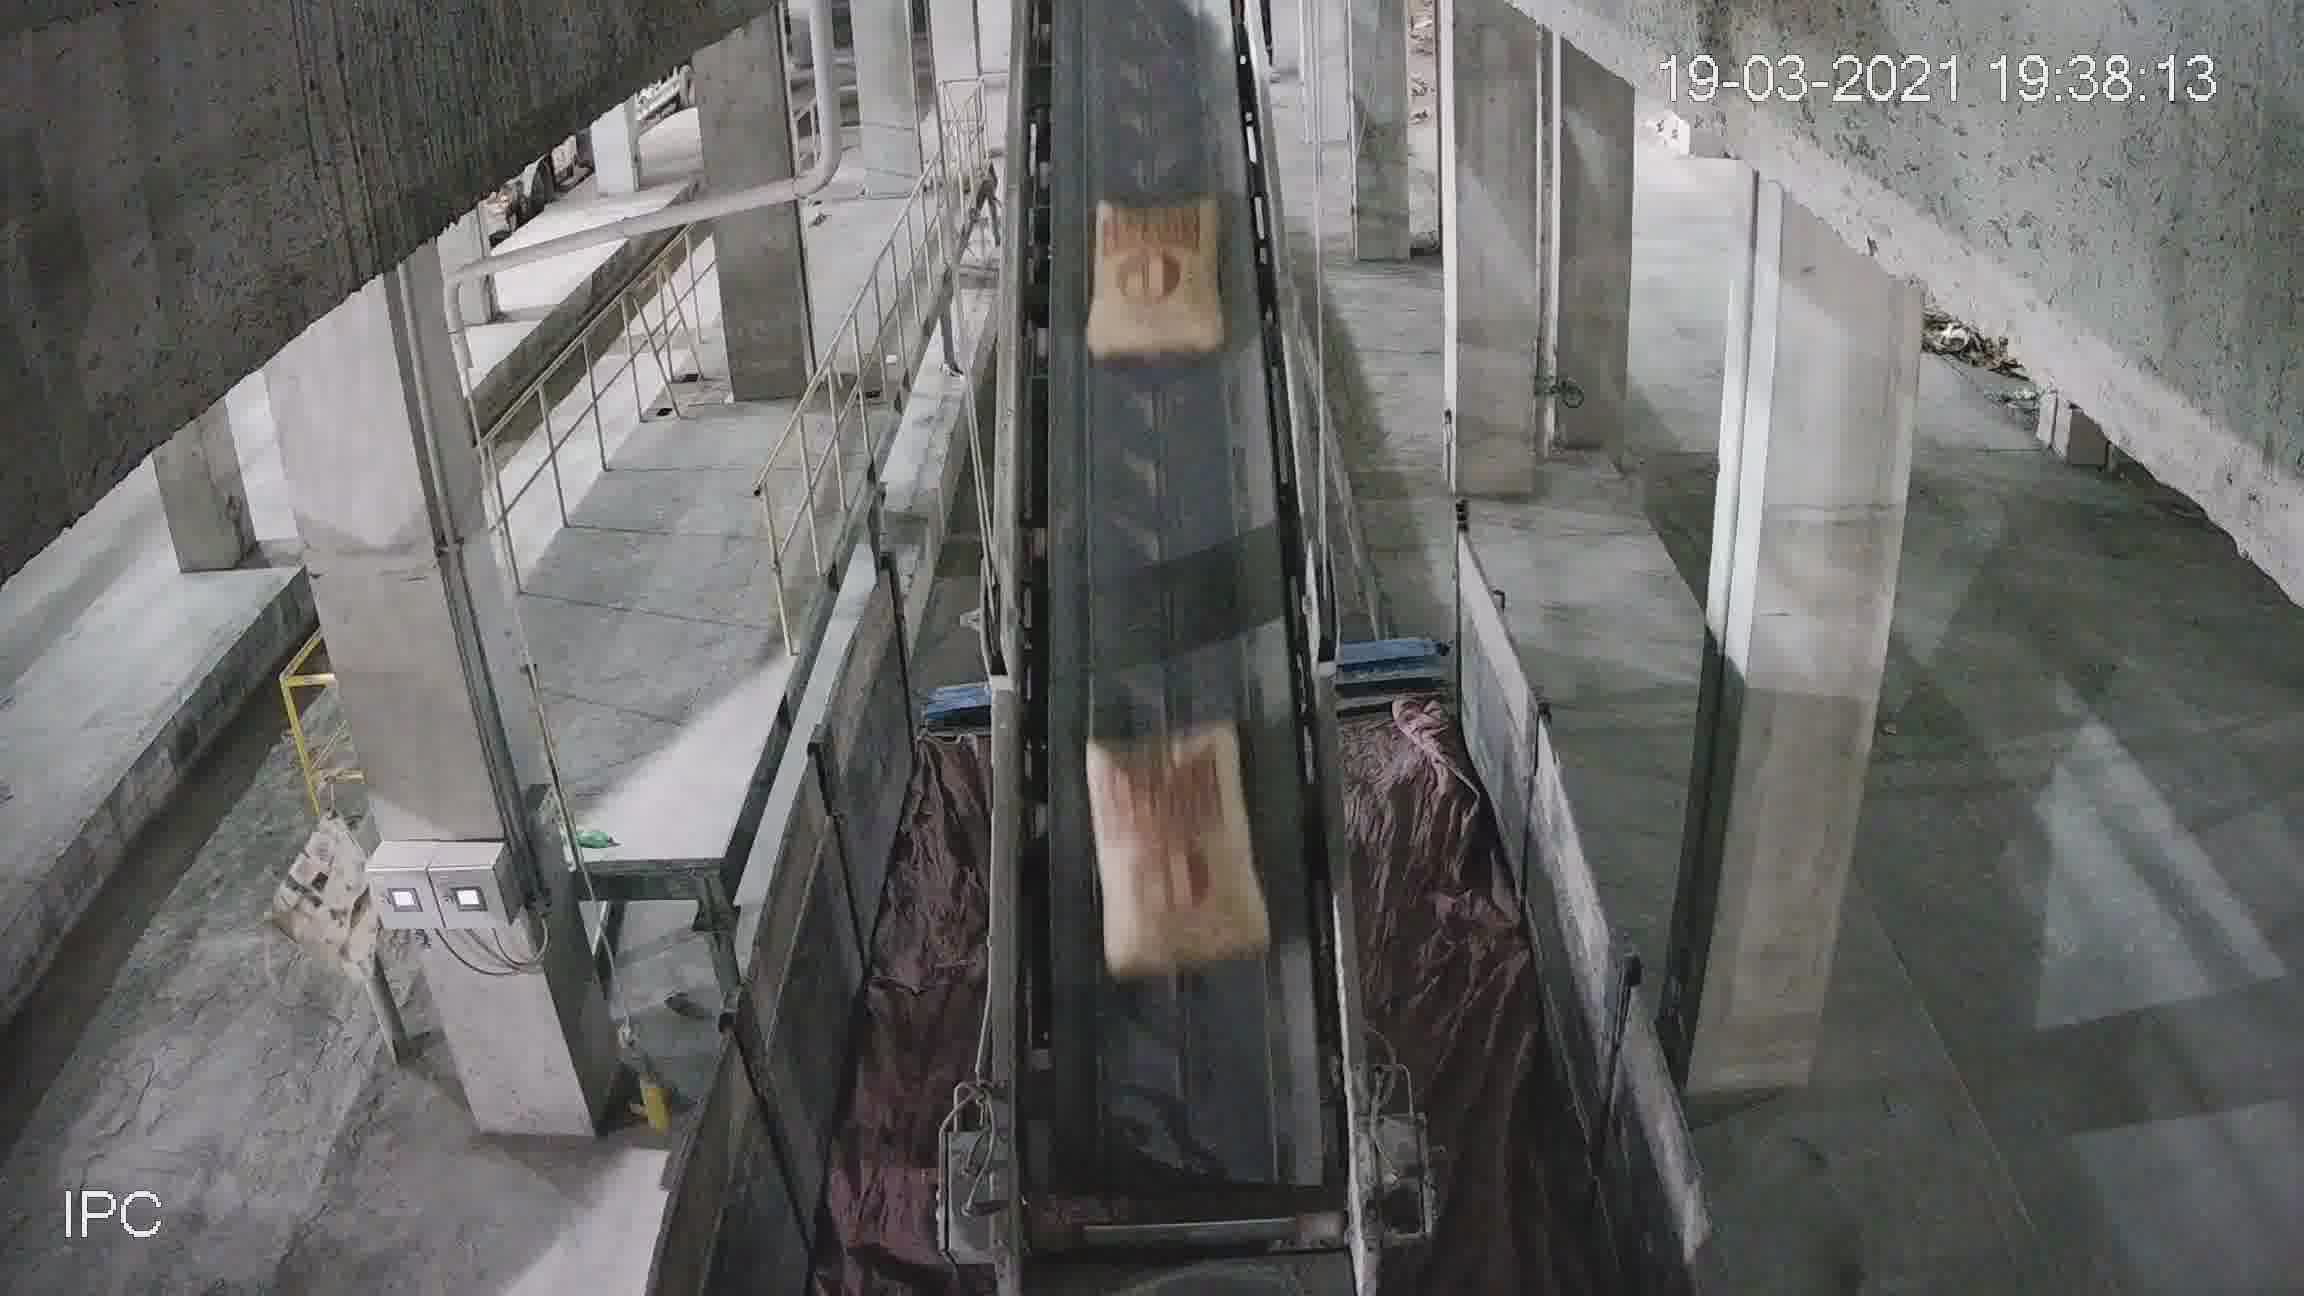bag: (1089, 729, 1261, 975), (1090, 204, 1220, 358)
belt: (1000, 78, 1347, 1168)
